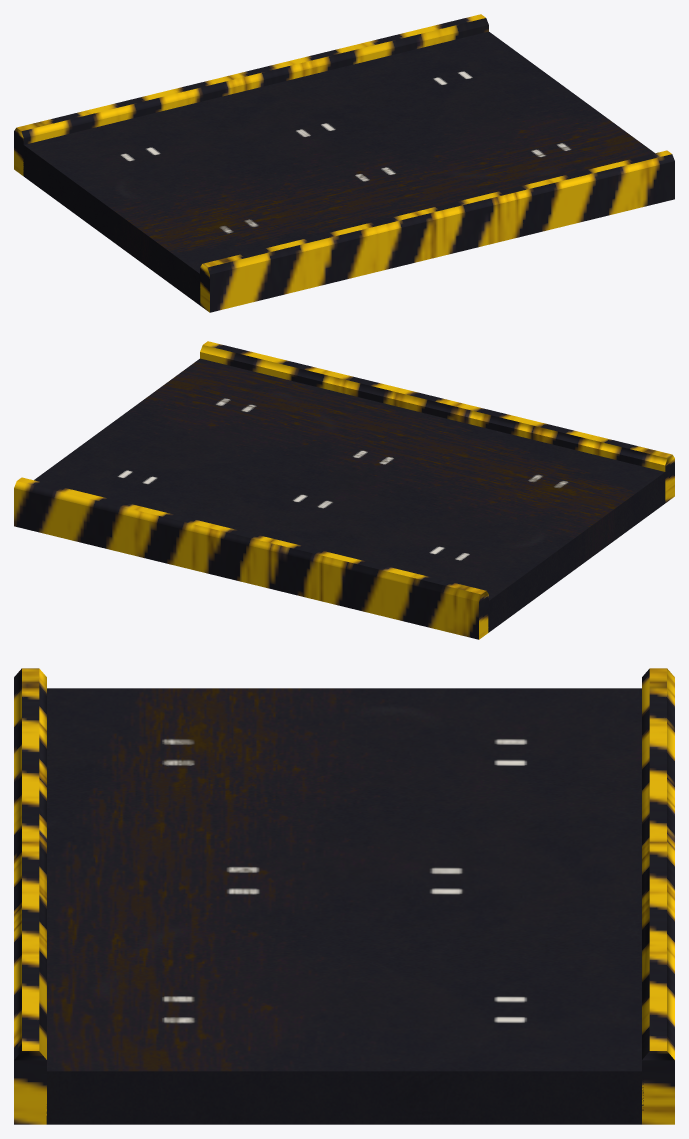
Rendered from Platform3.fbx.
3 views of the same model, one above another, from view 1: azimuth 30°, elevation 25°; view 2: azimuth 150°, elevation 25°; view 3: azimuth 270°, elevation 25° (orthographic). The views are drawn at different scales.
Parts seen in each view (by area): view 1: Platform3; view 2: Platform3; view 3: Platform3.
Boxes of the visible parts, x1=… form: Platform3: x1=14, y1=14, x2=674, y2=312; Platform3: x1=14, y1=341, x2=674, y2=639; Platform3: x1=14, y1=668, x2=674, y2=1124.
Size of the model in its own units: 400 by 35.81 by 292.
